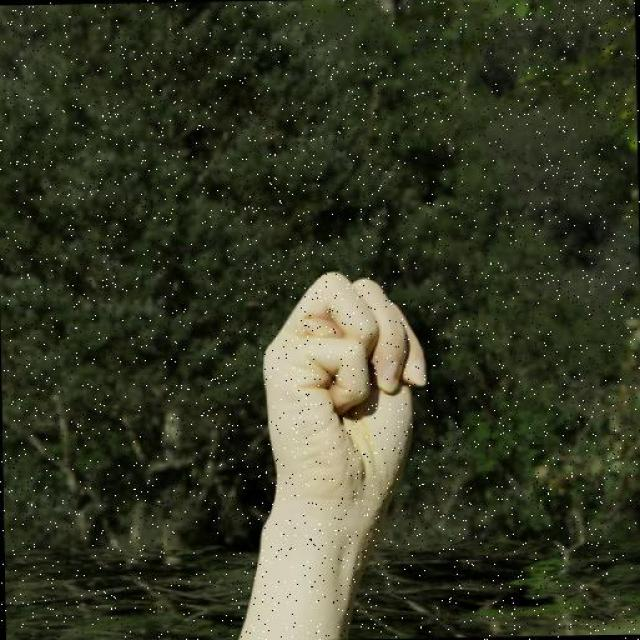M: (251, 266, 434, 516)
